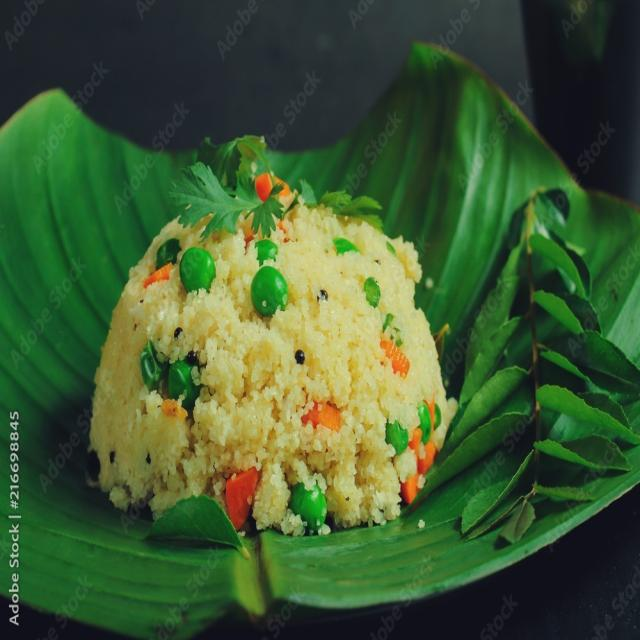UPMA: (90, 140, 457, 534), (92, 249, 399, 468)
